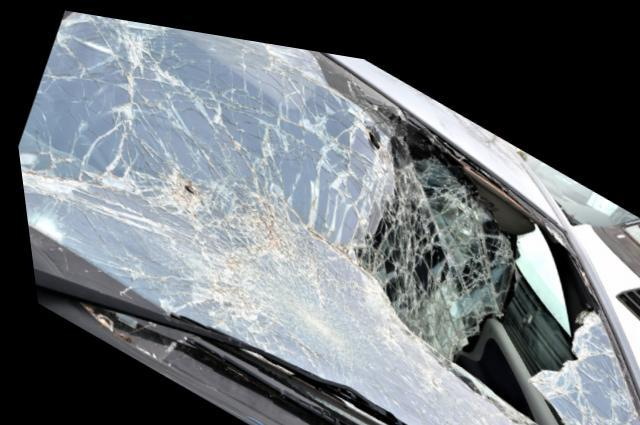glass shatter: (14, 8, 640, 425)
